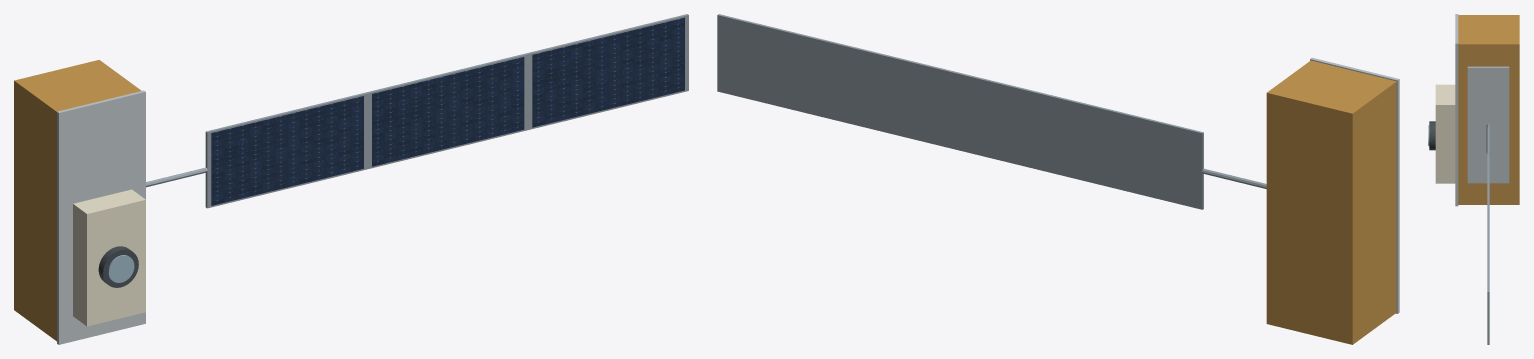
Rendered from jpss-leostar-3.glb.
The picture shows the model from 3 angles, left to right: view 1: azimuth 30°, elevation 25°; view 2: azimuth 150°, elevation 25°; view 3: azimuth 270°, elevation 25°; orthographic projection. The views are drawn at different scales.
Visible parts, largest first — view 1: Photovoltaic laminates (×3), Equipment module, Payload deck, Instrument housing, Array frame (×3), Optical baffle, Optical aperture; view 2: Array frame (×3), Equipment module, Payload deck; view 3: Equipment module, Thermal radiator, Instrument housing, Payload deck, Array frame (×3), Optical baffle, Solar array drive.
Part boxes in pixels (x1,y1,x2,y2): Photovoltaic laminates (×3): (211, 17, 684, 205); Equipment module: (14, 60, 141, 341); Payload deck: (57, 90, 145, 344); Instrument housing: (73, 189, 145, 326); Array frame (×3): (205, 14, 688, 208); Optical baffle: (98, 246, 138, 287); Optical aperture: (108, 255, 134, 282); Array frame (×3): (717, 14, 1203, 209); Equipment module: (1266, 60, 1396, 344); Payload deck: (1310, 57, 1399, 313); Equipment module: (1458, 15, 1519, 204); Thermal radiator: (1467, 66, 1509, 183); Instrument housing: (1435, 84, 1455, 183); Payload deck: (1455, 14, 1458, 206); Array frame (×3): (1487, 127, 1489, 344); Optical baffle: (1429, 121, 1435, 150); Solar array drive: (1486, 124, 1490, 154).
Size of the model in its own units: 10.71 by 3.64 by 1.85.
Materials: 7 (1 with a texture image).
